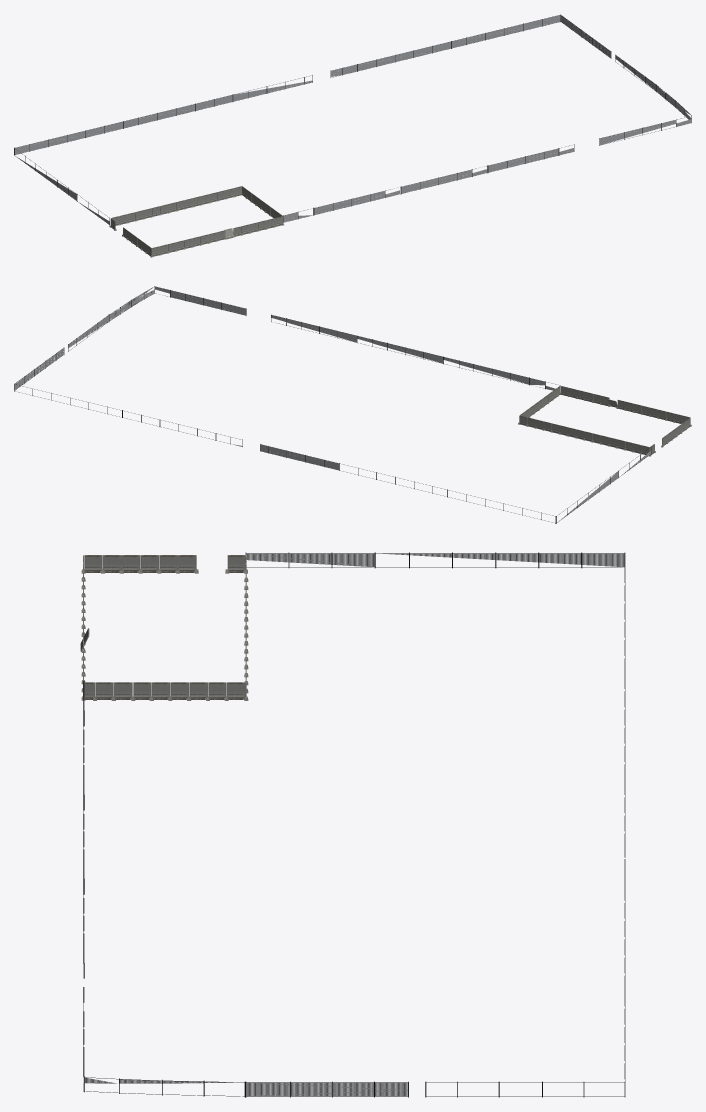
The model's file is prlFence_zaborec.glb.
3 views of the same model, one above another, from view 1: azimuth 30°, elevation 25°; view 2: azimuth 150°, elevation 25°; view 3: azimuth 270°, elevation 25° (orthographic). The views are drawn at different scales.
Visible parts, largest first — view 1: None_reshet.png, None_medicsubsta_zaborclear.png, None; view 2: None_reshet.png, None_medicsubsta_zaborclear.png, None; view 3: None_medicsubsta_zaborclear.png, None_reshet.png, None.
Boxes of the visible parts, left/top/right/bottom form: None_reshet.png: left=14, top=15, right=691, bottom=224; None_medicsubsta_zaborclear.png: left=109, top=186, right=283, bottom=257; None: left=14, top=14, right=691, bottom=225; None_reshet.png: left=14, top=286, right=650, bottom=520; None_medicsubsta_zaborclear.png: left=518, top=386, right=691, bottom=456; None: left=14, top=286, right=651, bottom=523; None_medicsubsta_zaborclear.png: left=80, top=555, right=248, bottom=700; None_reshet.png: left=83, top=553, right=624, bottom=1096; None: left=83, top=552, right=625, bottom=1097.
Size of the model in its own units: 218 by 3.69 by 94.9.
Materials: 3 (3 with a texture image).
